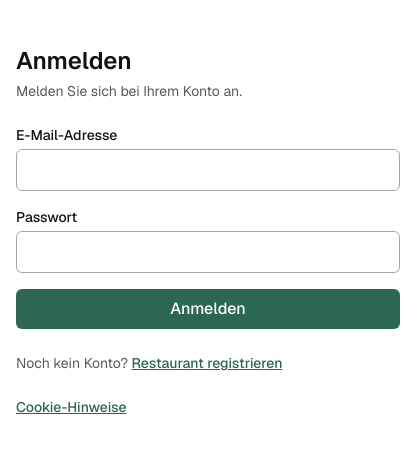
Test: LoginPage keeps the e-mail after a failed login › keeps the e-mail address when the server returns an error
Type "chef@example.com" into the field labelled "E-Mail-Adresse".
click(208, 170); type("chef@example.com")  # box [16, 149, 400, 191]
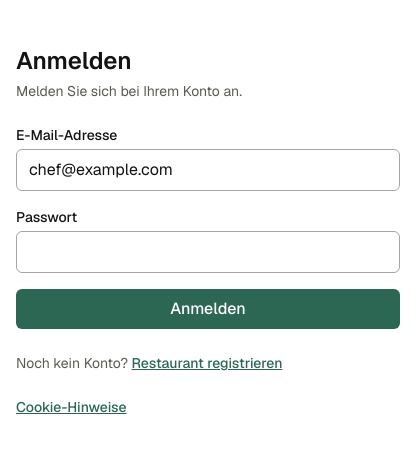
Type "wrong-pw" into the password field labelled "Passwort".
click(208, 252); type("wrong-pw")  # box [16, 231, 400, 273]
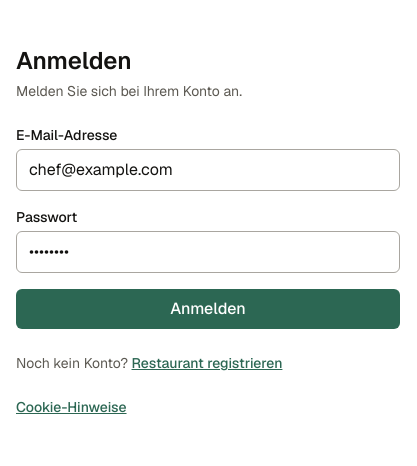
Click the button "Anmelden".
click(208, 309)  # box [16, 289, 400, 329]
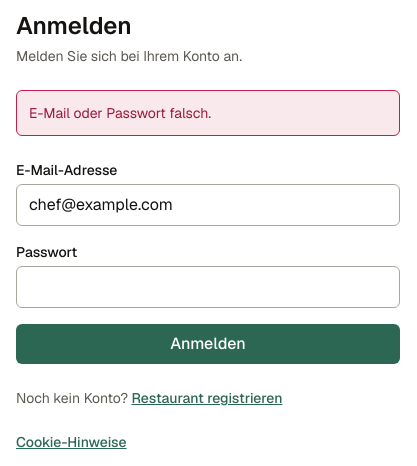
Now the message shows "falsch", box [29, 104, 211, 122]
